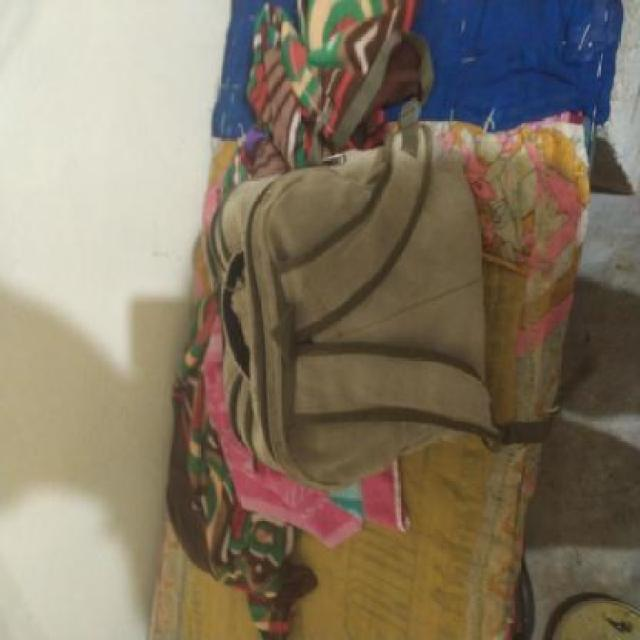backpack: (200, 96, 515, 496)
